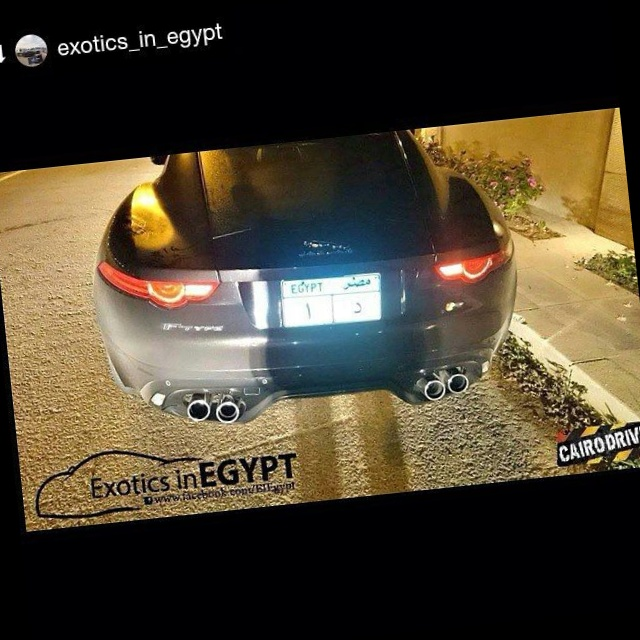License Plate: (275, 267, 389, 336)
